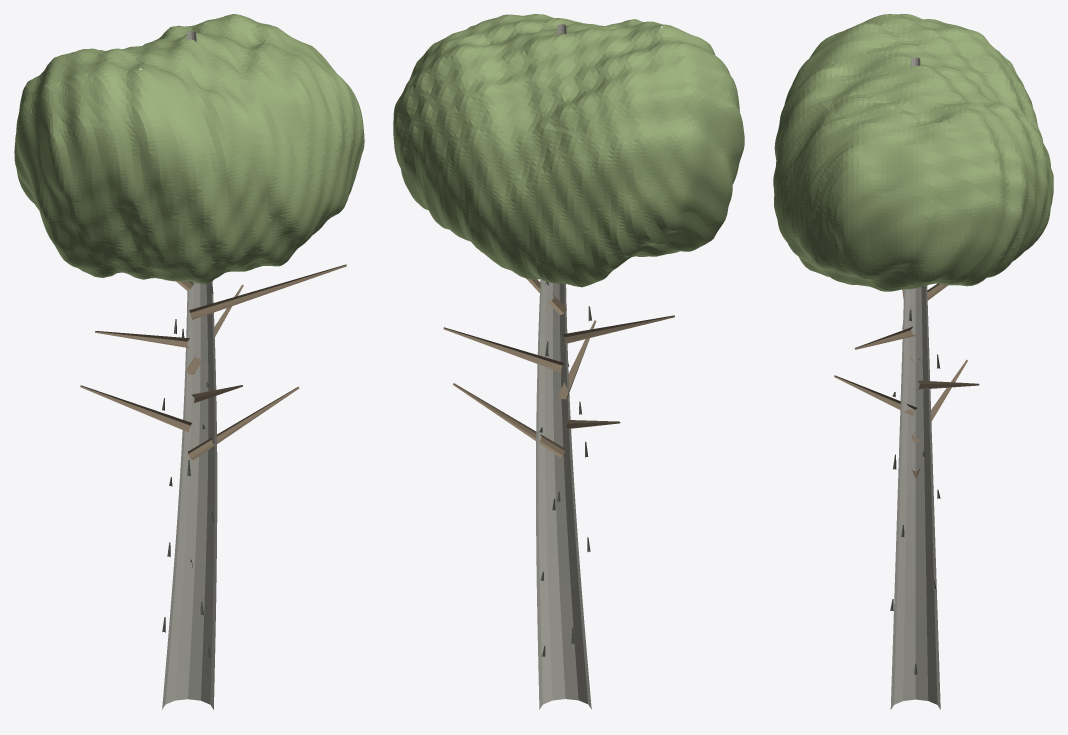
File: taiga_aspen.glb
The picture shows the model from 3 angles, left to right: view 1: azimuth 30°, elevation 25°; view 2: azimuth 150°, elevation 25°; view 3: azimuth 270°, elevation 25°; orthographic projection. The views are drawn at different scales.
Visible parts, largest first — view 1: taiga_aspen; view 2: taiga_aspen; view 3: taiga_aspen.
Part boxes in pixels (x1,y1,x2,y2): taiga_aspen: [14, 14, 364, 709]; taiga_aspen: [393, 14, 744, 709]; taiga_aspen: [773, 14, 1053, 709].
Size of the model in its own units: 3.47 by 7.2 by 2.81.
